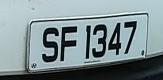1: (81, 19, 94, 65)
3: (90, 19, 108, 64)
4: (108, 18, 123, 60)
7: (123, 15, 139, 59)
F: (59, 22, 80, 67)
S: (39, 23, 61, 67)
